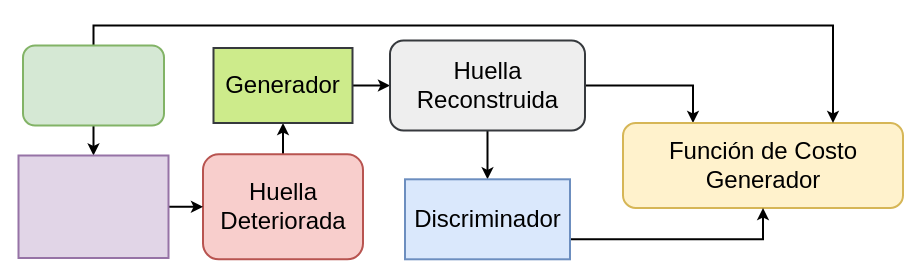
This 921x277 diagram has some shape labels left out. The shapes that lost their labels are listed below. From the top down, each one's centre as x and y in pixels, then its label:
the point at 93,85: Huella Original
the point at 93,206: Deterioro Artificial
